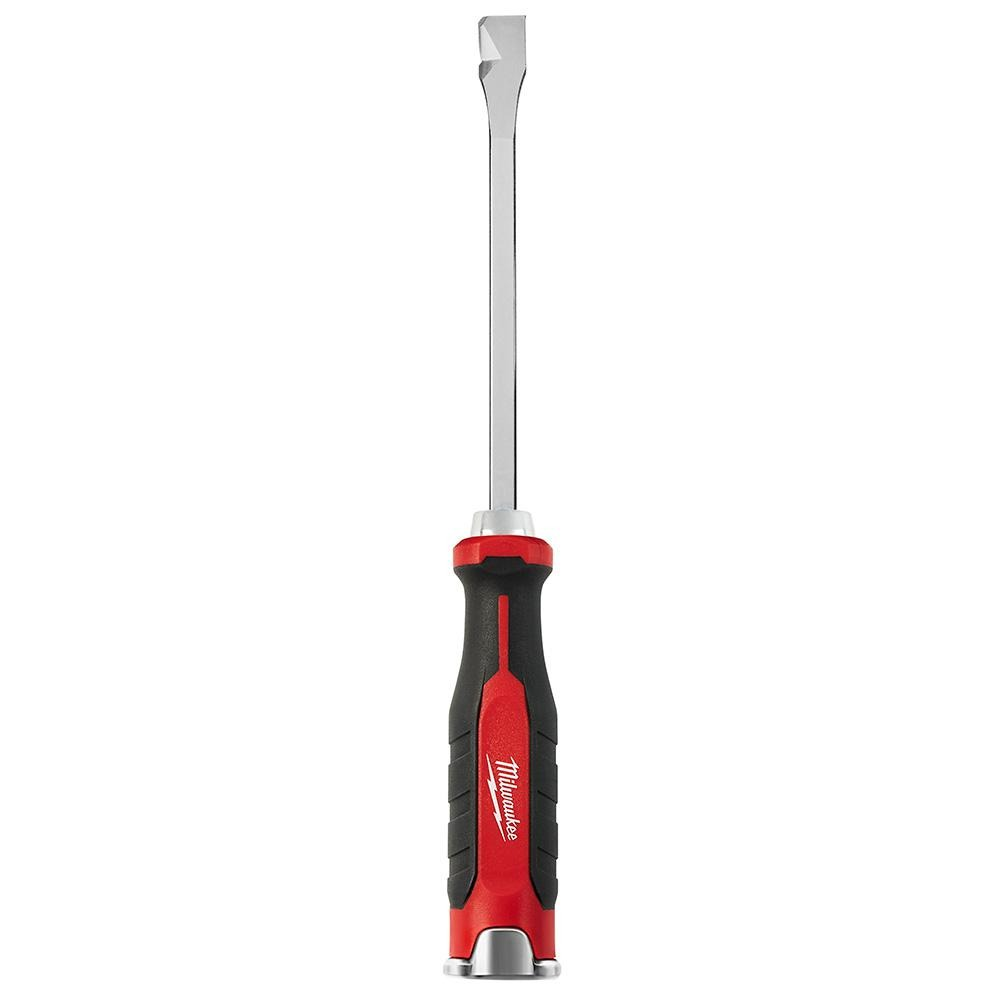screwdriver: (420, 8, 581, 1000)
